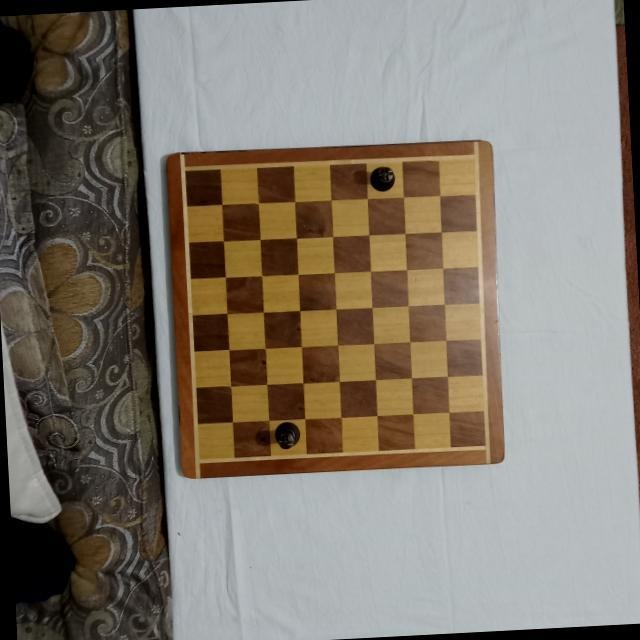black-rook: (272, 422, 300, 451), (370, 166, 398, 194)
